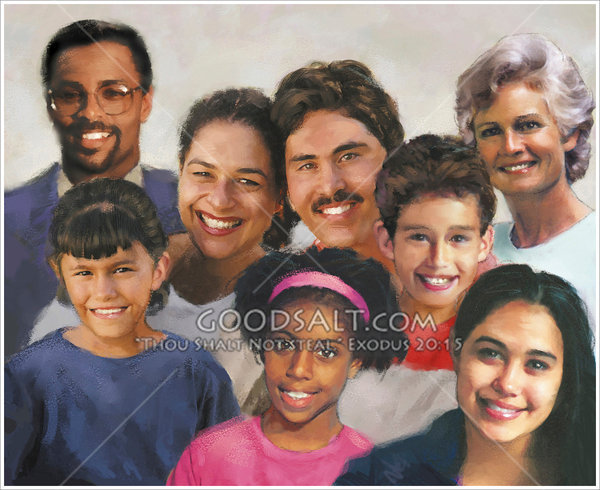person: (16, 181, 188, 405), (425, 273, 586, 481), (26, 16, 173, 204)
